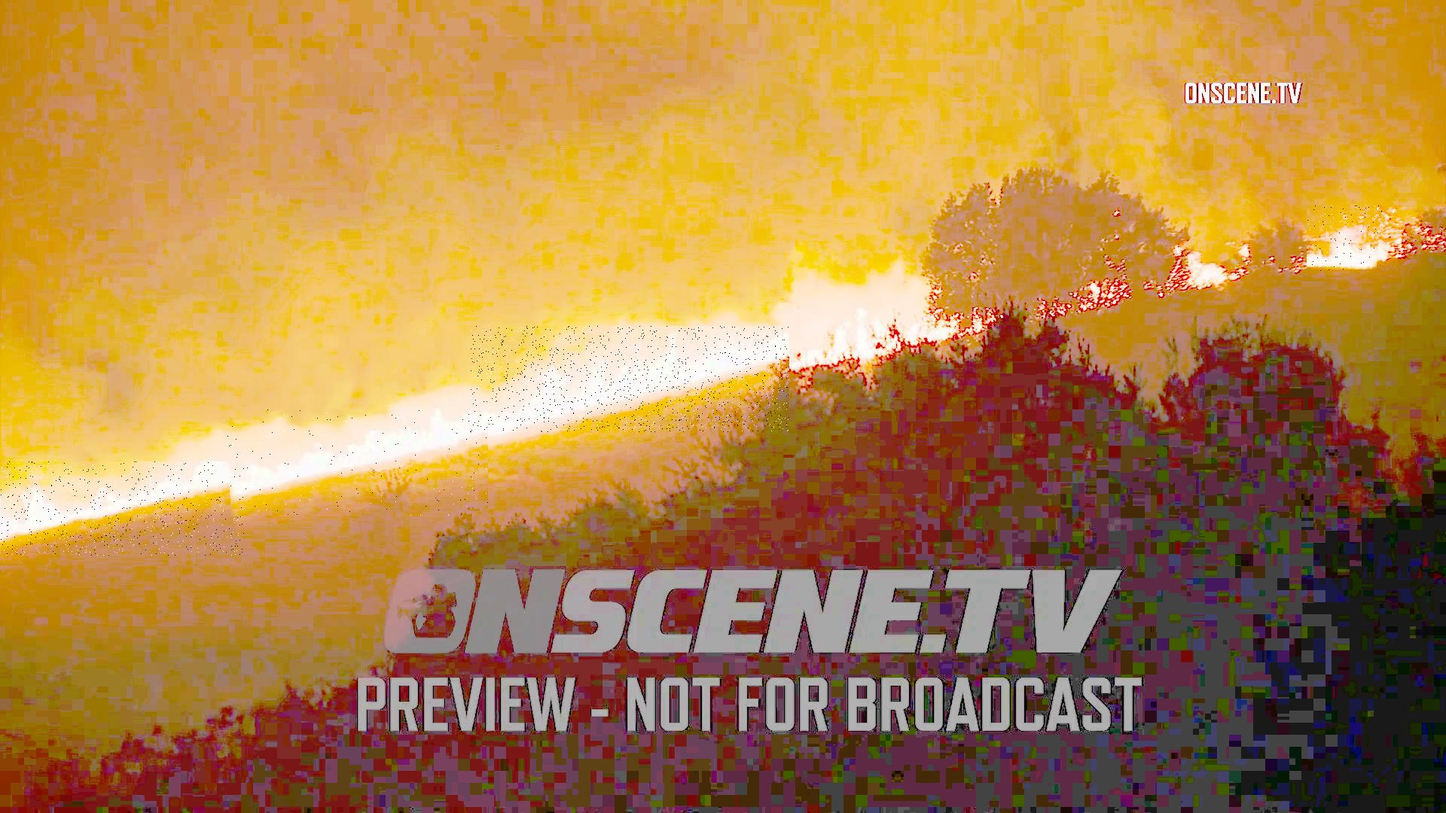fire: (471, 326, 789, 432), (224, 409, 488, 517), (1, 462, 245, 556), (1307, 205, 1383, 272)
